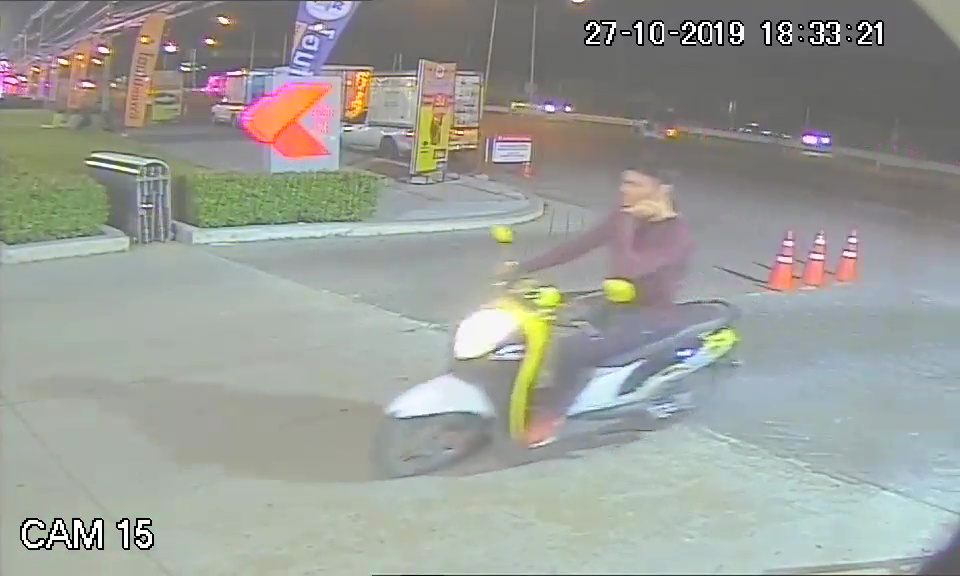motorcycle: (367, 274, 748, 490)
